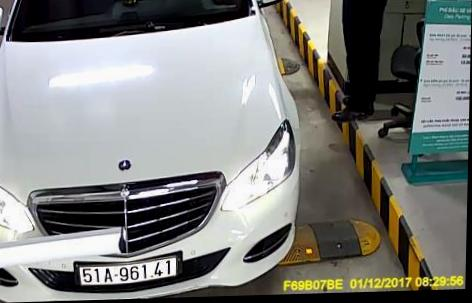License_Plate: (72, 257, 181, 287)
